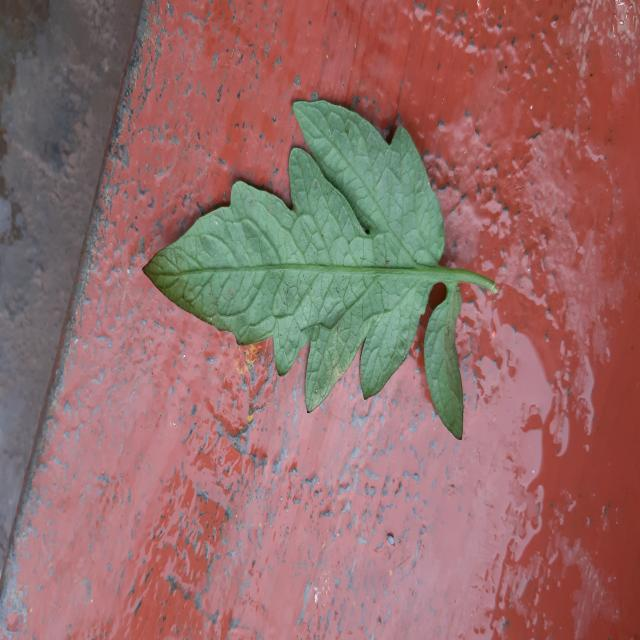tomato: (145, 100, 494, 438)
